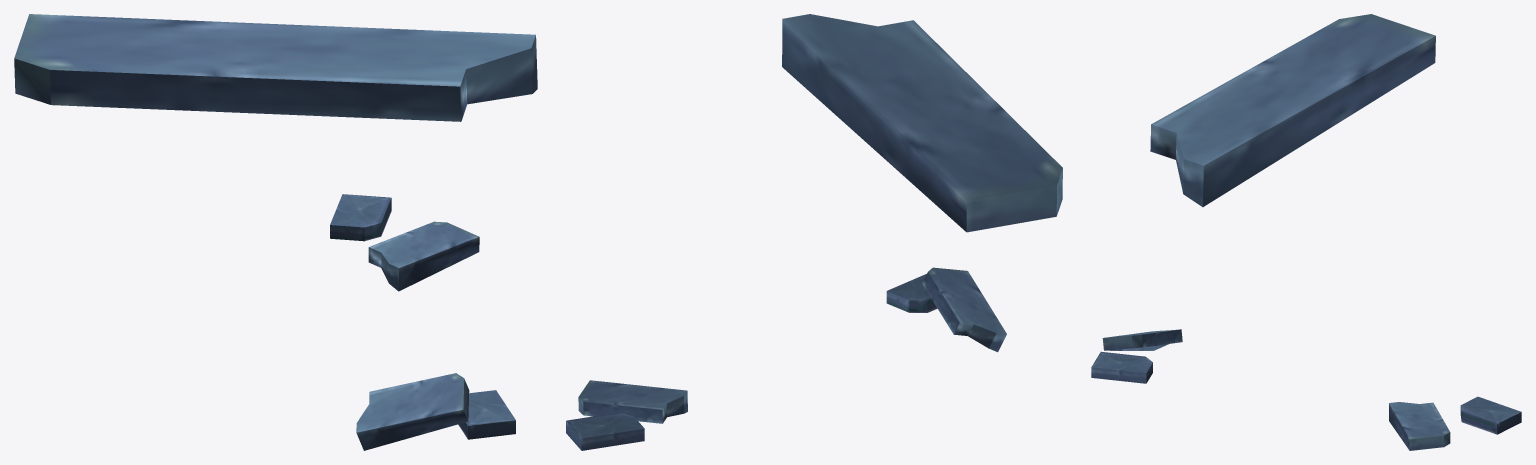
Rendered from Area14_4.fbx.
3 renders of one model, left to right at view 1: azimuth 30°, elevation 25°; view 2: azimuth 150°, elevation 25°; view 3: azimuth 270°, elevation 25°, orthographic. The views are drawn at different scales.
Visible parts, largest first — view 1: Area14_4; view 2: Area14_4; view 3: Area14_4.
Part boxes in pixels (box(x1,y1,x2,y2)): Area14_4: box(14, 14, 537, 450); Area14_4: box(566, 14, 1062, 450); Area14_4: box(1091, 14, 1521, 450).
Bounding box in the file's own units: 1524 × 1016 × 1512.
1 material, 1 textured.
